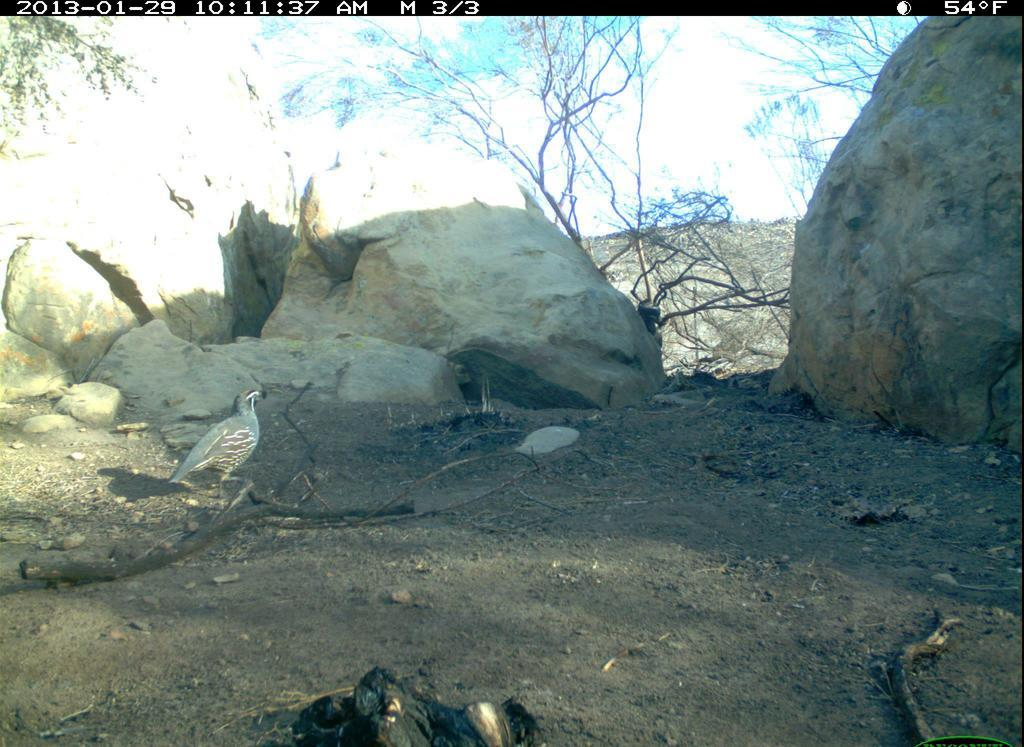bird: (166, 383, 290, 501)
